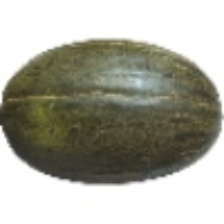honeydew: (23, 10, 205, 200)
